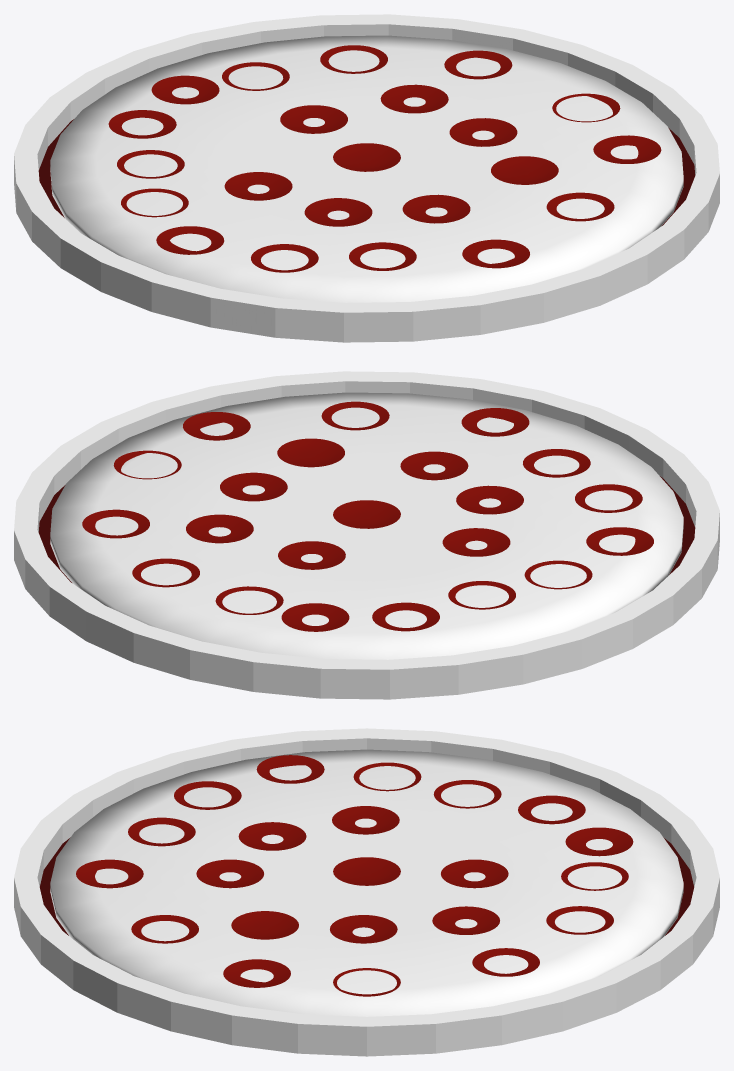
The model's file is pizza1.glb.
3 renders of one model, top to bottom at view 1: azimuth 30°, elevation 25°; view 2: azimuth 150°, elevation 25°; view 3: azimuth 270°, elevation 25°, orthographic.
Parts seen in each view (by area): view 1: Circle.001, Cylinder, Circle.002, Circle.018, Circle.003, Circle.015, Circle.016, Circle.027, Circle.011, Circle.024, Circle, Circle.012 (+13 smaller); view 2: Circle.001, Cylinder, Circle.002, Circle.018, Circle.015, Circle.011, Circle.027, Circle.003, Circle.024, Circle.016, Circle, Circle.012 (+13 smaller); view 3: Circle.001, Cylinder, Circle.002, Circle.018, Circle.015, Circle.027, Circle.003, Circle.016, Circle.024, Circle.011, Circle, Circle.012 (+12 smaller).
Boxes of the visible parts, box(x1,y1,x2,y2) form: Circle.001: box(50, 35, 683, 302); Cylinder: box(14, 14, 719, 342); Circle.002: box(333, 143, 400, 171); Circle.018: box(491, 156, 558, 184); Circle.003: box(224, 172, 292, 200); Circle.015: box(402, 194, 470, 223); Circle.016: box(304, 198, 372, 226); Circle.027: box(280, 105, 347, 133); Circle.011: box(380, 84, 448, 113); Circle.024: box(449, 118, 517, 146); Circle: box(38, 119, 695, 225); Circle.012: box(151, 75, 219, 104); Circle.001: box(50, 392, 683, 659); Cylinder: box(14, 371, 719, 699); Circle.002: box(333, 500, 400, 528); Circle.018: box(277, 438, 344, 467); Circle.015: box(400, 451, 468, 480); Circle.011: box(186, 514, 253, 543); Circle.027: box(278, 541, 345, 569); Circle.003: box(442, 528, 510, 556); Circle.024: box(220, 472, 287, 501); Circle.016: box(456, 485, 523, 514); Circle: box(38, 476, 695, 582); Circle.012: box(281, 603, 349, 631); Circle.001: box(50, 749, 683, 1016); Cylinder: box(14, 728, 719, 1056); Circle.002: box(333, 857, 400, 885); Circle.018: box(231, 911, 298, 939); Circle.015: box(196, 859, 263, 888); Circle.027: box(441, 859, 508, 888); Circle.003: box(332, 806, 399, 834); Circle.016: box(238, 822, 306, 850); Circle.024: box(330, 915, 397, 943); Circle.011: box(432, 906, 499, 934); Circle: box(39, 837, 694, 935); Circle.012: box(565, 827, 633, 856).
Size of the model in its own units: 0.4221 by 0.0236 by 0.4221.
